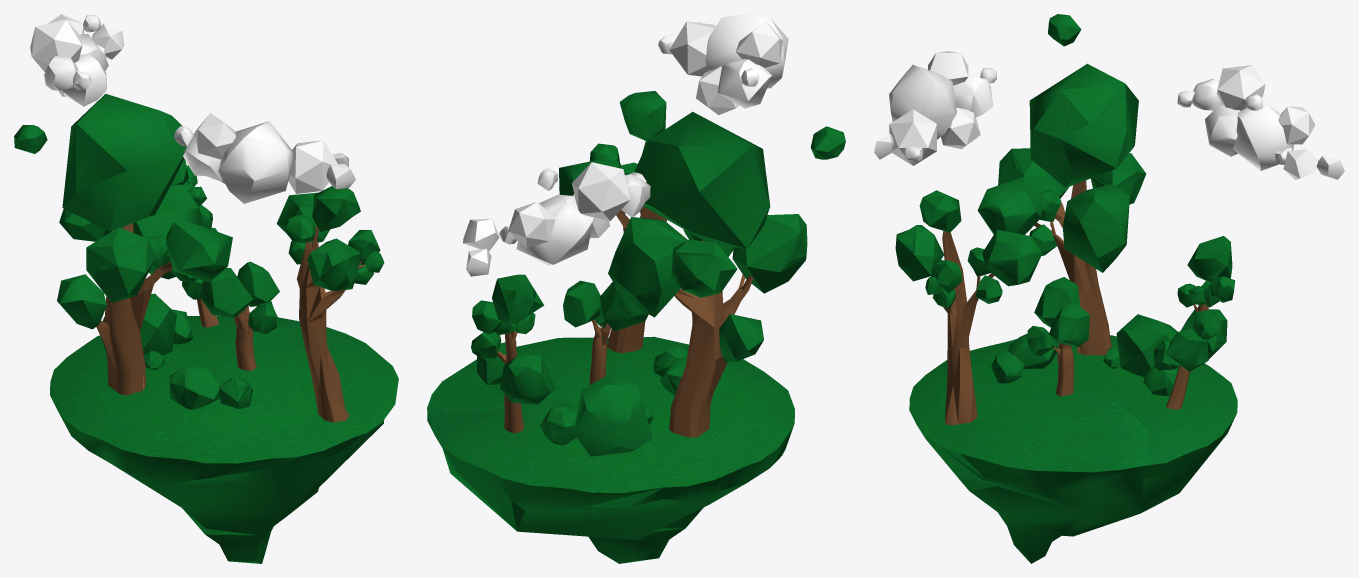
File: SceneForSaleDone.obj
The picture shows the model from 3 angles, left to right: view 1: azimuth 30°, elevation 25°; view 2: azimuth 150°, elevation 25°; view 3: azimuth 270°, elevation 25°; orthographic projection. The views are drawn at different scales.
Parts seen in each view (by area): view 1: Grass, Rock, Объект_Платоново_тело.1_5, stem, Объект_Платоново_тело.1_3, Stem, Объект_Платоново_тело.6, Объект_Платоново_тело.8, Объект_Платоново_тело_16, Объект_Платоново_тело.2, Объект_Платоново_тело_13, Объект_Платоново_тело.10_1 (+22 smaller); view 2: Grass, Rock, Объект_Платоново_тело.1_5, Stem, Объект_Платоново_тело.2, Объект_Платоново_тело.1_4, Объект_Платоново_тело.6, Объект_Платоново_тело_15, Объект_Платоново_тело.1_1, Объект_Платоново_тело_7, Объект_Платоново_тело.1_3, Объект_Платоново_тело.9_3 (+24 smaller); view 3: Grass, Rock, Объект_Платоново_тело.1_5, Объект_Платоново_тело.2, stem, Stem, Объект_Платоново_тело.1_3, Объект_Платоново_тело.8, Объект_Платоново_тело.1_1, Объект_Платоново_тело.8_1, Объект_Платоново_тело.1_4, Объект_Платоново_тело_16 (+26 smaller).
Part boxes in pixels (box(x1,y1,x2,y2)): Grass: box(50, 315, 398, 463); Rock: box(57, 409, 384, 563); Объект_Платоново_тело.1_5: box(62, 93, 185, 231); stem: box(297, 225, 365, 422); Объект_Платоново_тело.1_3: box(218, 121, 292, 203); Stem: box(96, 223, 172, 395); Объект_Платоново_тело.6: box(86, 227, 156, 303); Объект_Платоново_тело.8: box(166, 222, 232, 282); Объект_Платоново_тело_16: box(307, 238, 361, 290); Объект_Платоново_тело.2: box(133, 184, 199, 266); Объект_Платоново_тело_13: box(288, 140, 337, 193); Объект_Платоново_тело.10_1: box(57, 274, 106, 329); Grass: box(427, 336, 794, 492); Rock: box(435, 424, 794, 563); Объект_Платоново_тело.1_5: box(635, 111, 770, 248); Stem: box(669, 240, 753, 437); Объект_Платоново_тело.2: box(608, 217, 687, 317); Объект_Платоново_тело.1_4: box(573, 373, 652, 456); Объект_Платоново_тело.6: box(732, 214, 807, 293); Объект_Платоново_тело_15: box(671, 239, 737, 297); Объект_Платоново_тело.1_1: box(516, 194, 593, 265); Объект_Платоново_тело_7: box(572, 162, 629, 220); Объект_Платоново_тело.1_3: box(705, 14, 788, 88); Объект_Платоново_тело.9_3: box(500, 355, 555, 404); Grass: box(909, 335, 1237, 472); Rock: box(916, 414, 1236, 563); Объект_Платоново_тело.1_5: box(1029, 63, 1138, 187); Объект_Платоново_тело.2: box(1063, 184, 1129, 272); stem: box(933, 231, 994, 425); Stem: box(1034, 180, 1111, 355); Объект_Платоново_тело.1_3: box(889, 64, 956, 139); Объект_Платоново_тело.8: box(977, 176, 1043, 234); Объект_Платоново_тело.1_1: box(1233, 103, 1294, 170); Объект_Платоново_тело.8_1: box(982, 229, 1041, 286); Объект_Платоново_тело.1_4: box(1116, 314, 1178, 377); Объект_Платоново_тело_16: box(895, 225, 943, 281).
Bounding box in the file's own units: 241 × 315 × 286.
Materials: 3 (3 with a texture image).
